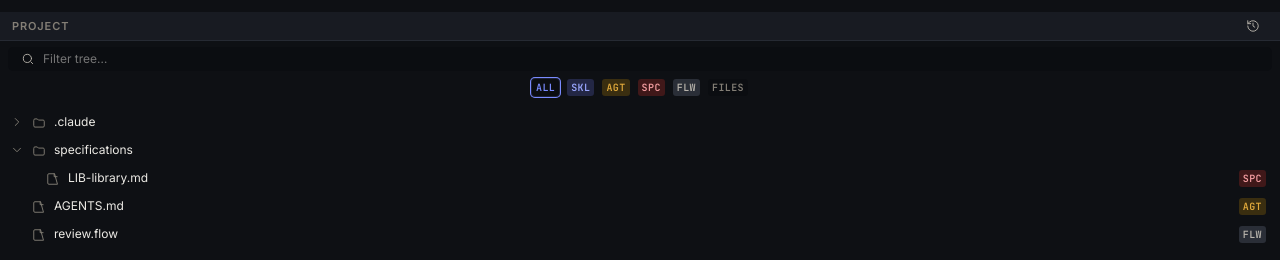
Test: persisted panel state (LIB-FR-14 … LIB-FR-17) › removes a folder from the persisted set when it is collapsed
Click the text "specifications" at (94, 150), box 54,142 -> 133,157
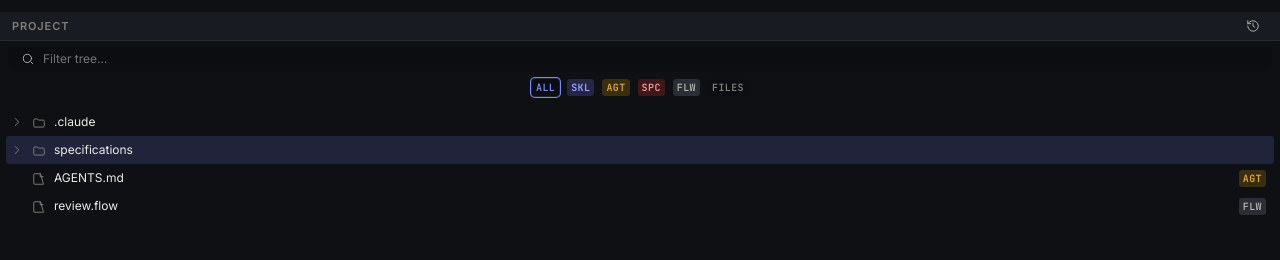
Check: the text "LIB-library.md" is gone
